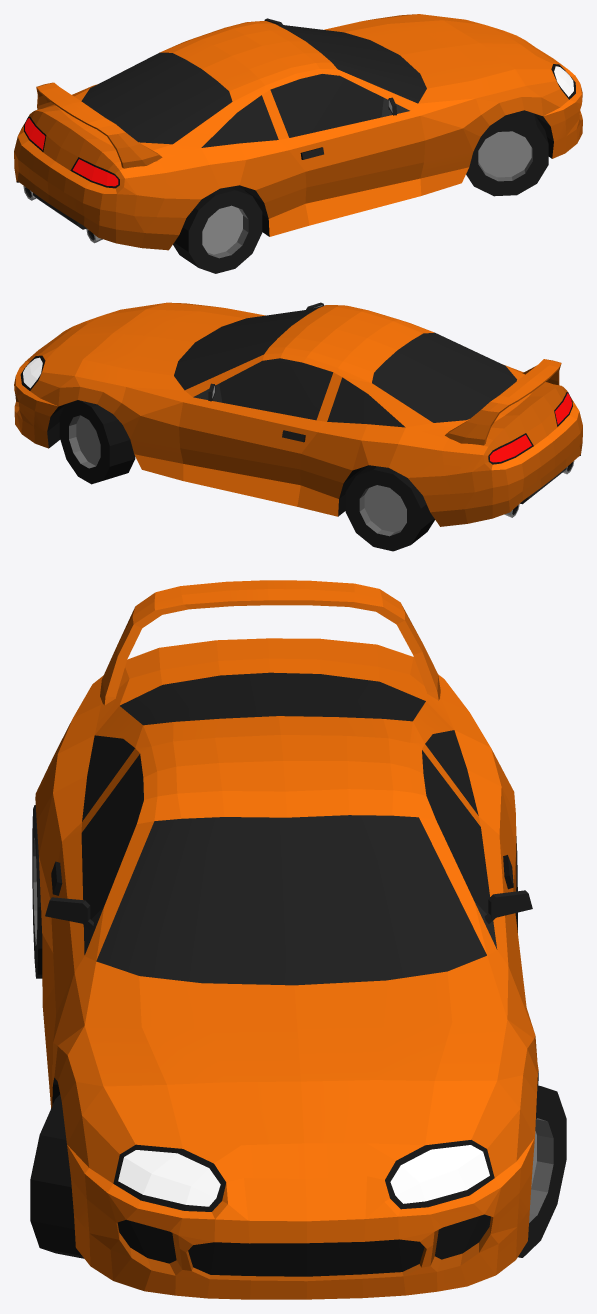
File: Car_052.glb
3 renders of one model, top to bottom at view 1: azimuth 30°, elevation 25°; view 2: azimuth 150°, elevation 25°; view 3: azimuth 270°, elevation 25°, orthographic. The views are drawn at different scales.
Visible parts, largest first — view 1: Car_052, wheel_2_Car_052_Wheel_2R, wheel_1_Car_052_Wheel_1R; view 2: Car_052, wheel_3_Car_052_Wheel_3L, wheel_0_Car_052_Wheel_1L; view 3: Car_052, wheel_1_Car_052_Wheel_1R, wheel_0_Car_052_Wheel_1L, wheel_2_Car_052_Wheel_2R.
Boxes of the visible parts, x1,y1,x2,y2 form: Car_052: [14, 14, 582, 250]; wheel_2_Car_052_Wheel_2R: [173, 186, 262, 273]; wheel_1_Car_052_Wheel_1R: [466, 110, 548, 196]; Car_052: [14, 302, 582, 526]; wheel_3_Car_052_Wheel_3L: [345, 465, 434, 551]; wheel_0_Car_052_Wheel_1L: [59, 400, 135, 484]; Car_052: [35, 580, 538, 1299]; wheel_1_Car_052_Wheel_1R: [30, 1094, 84, 1258]; wheel_0_Car_052_Wheel_1L: [518, 1085, 566, 1257]; wheel_2_Car_052_Wheel_2R: [32, 805, 42, 978].
Size of the model in its own units: 5.22 by 1.49 by 2.38.
Materials: 3 (3 with a texture image).
